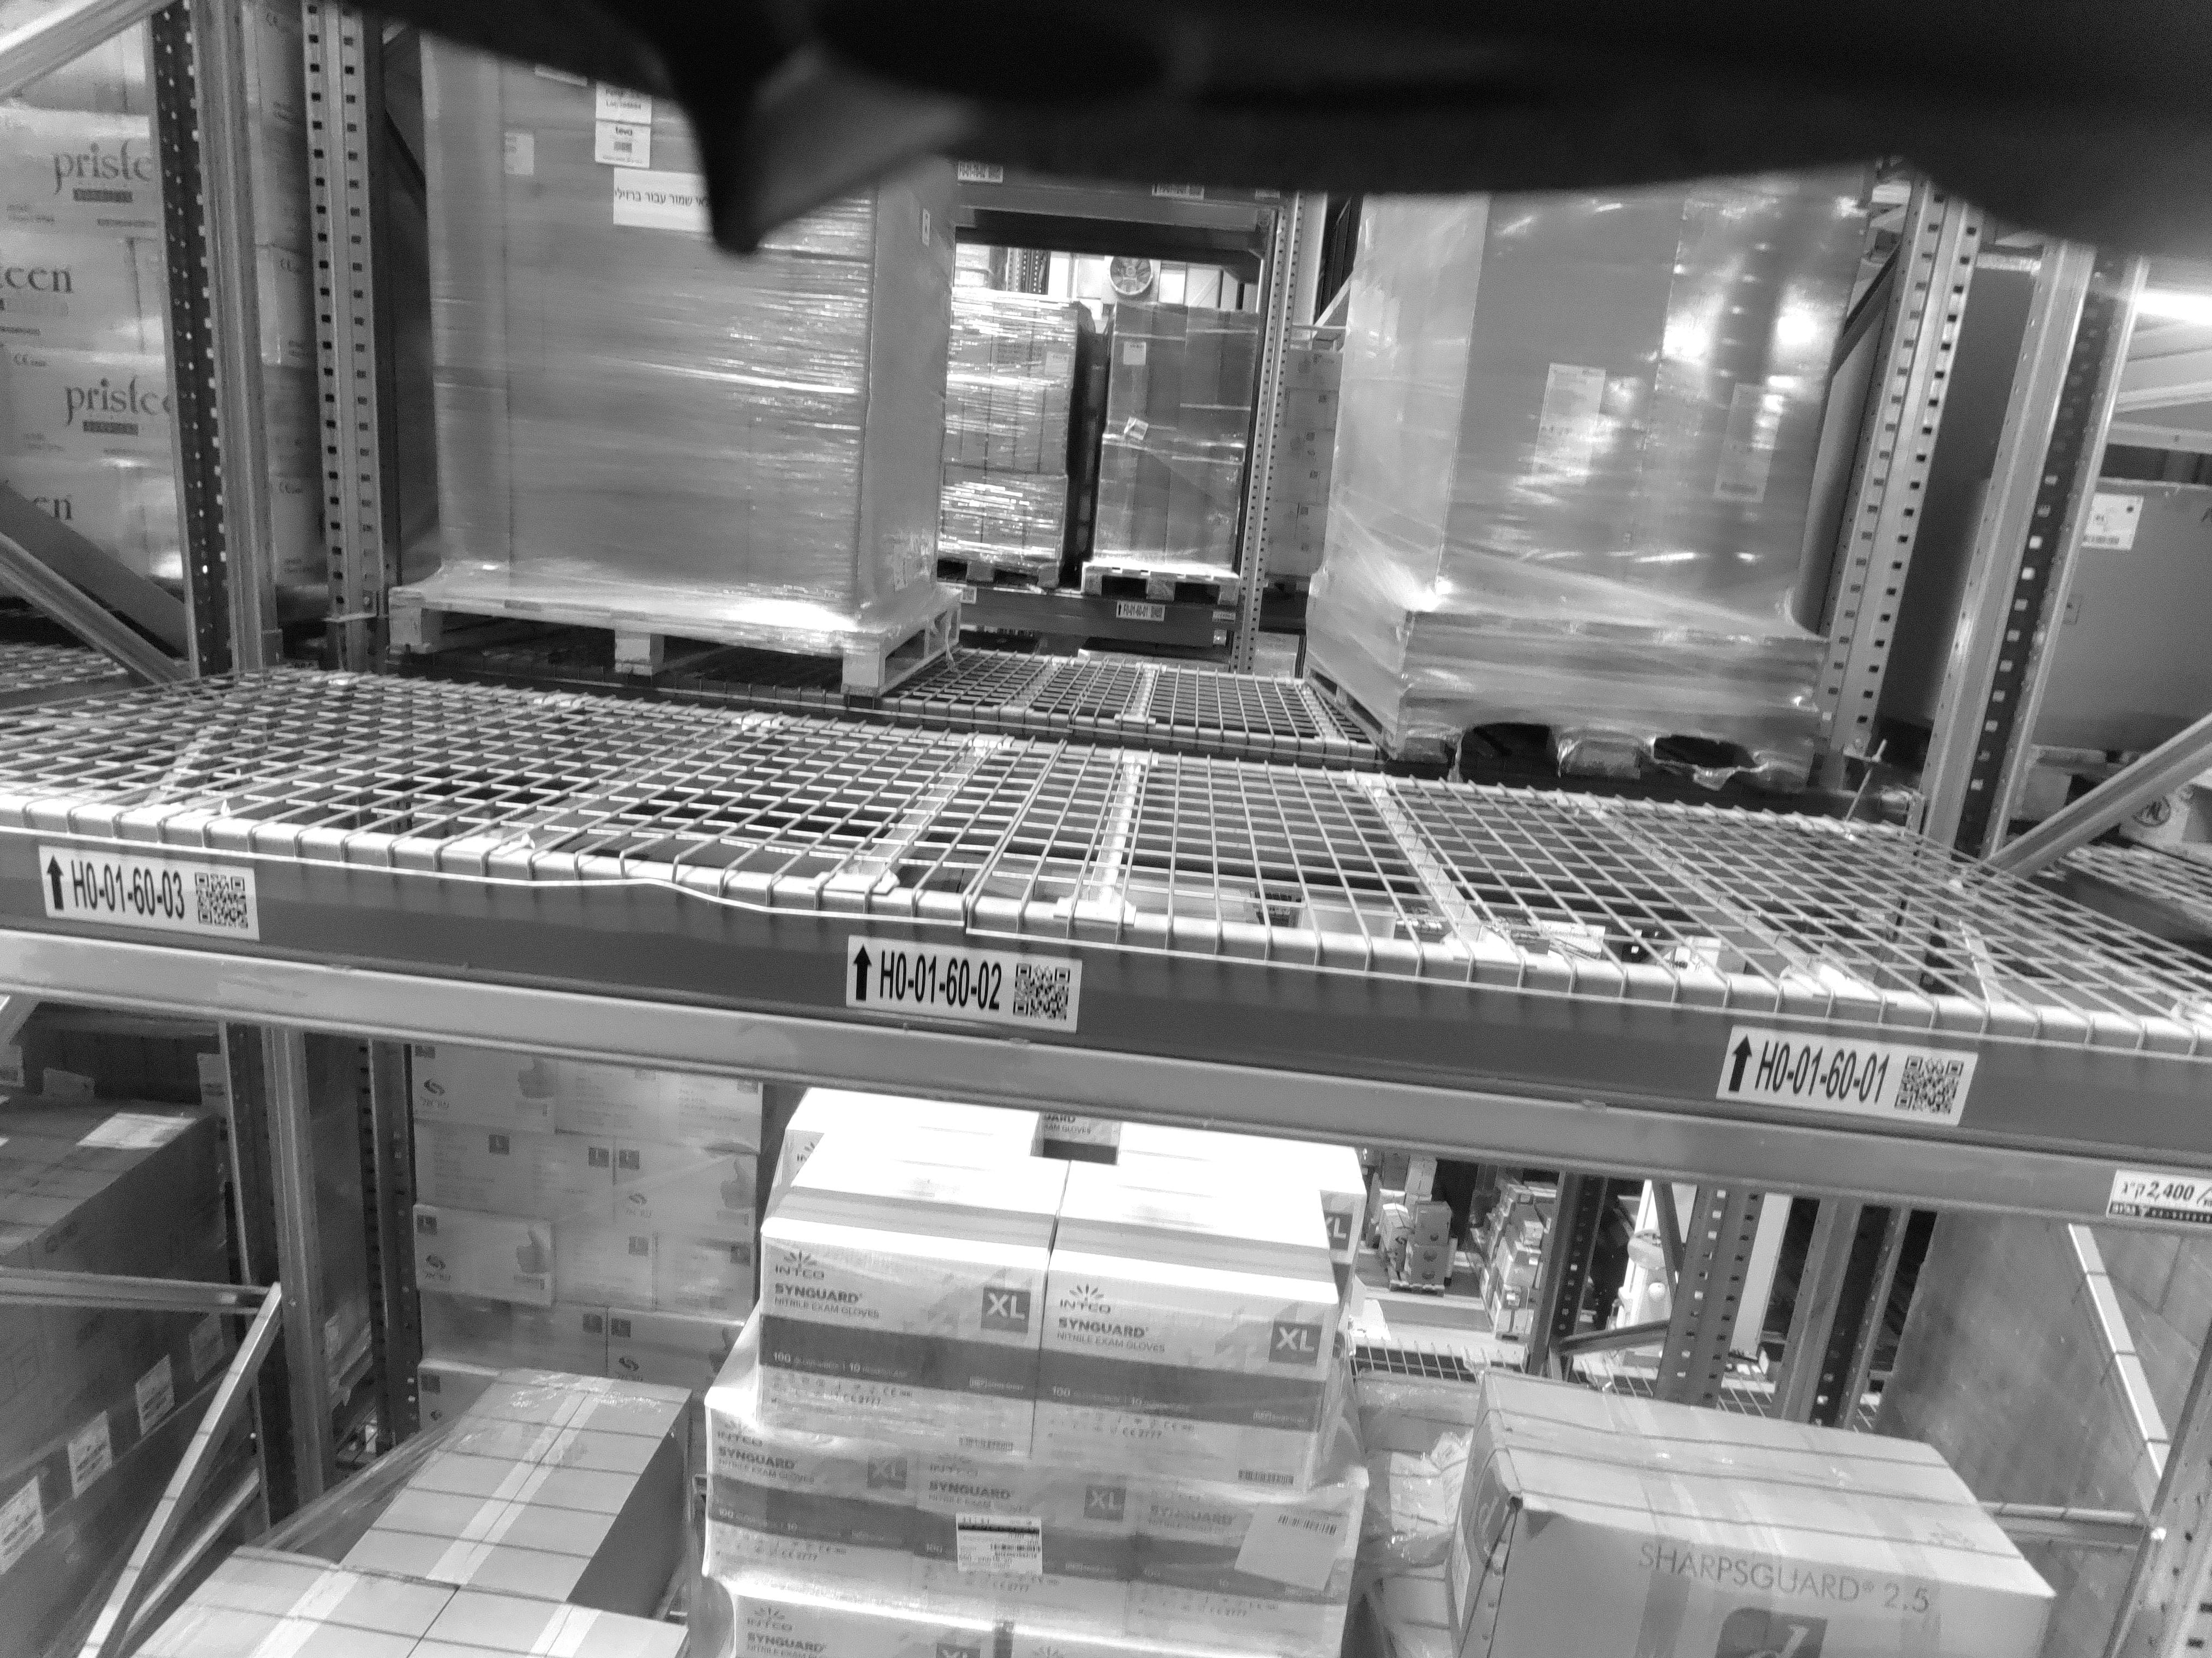empty-shelf: (1660, 247, 2081, 949), (188, 30, 512, 799), (883, 207, 1214, 864)
